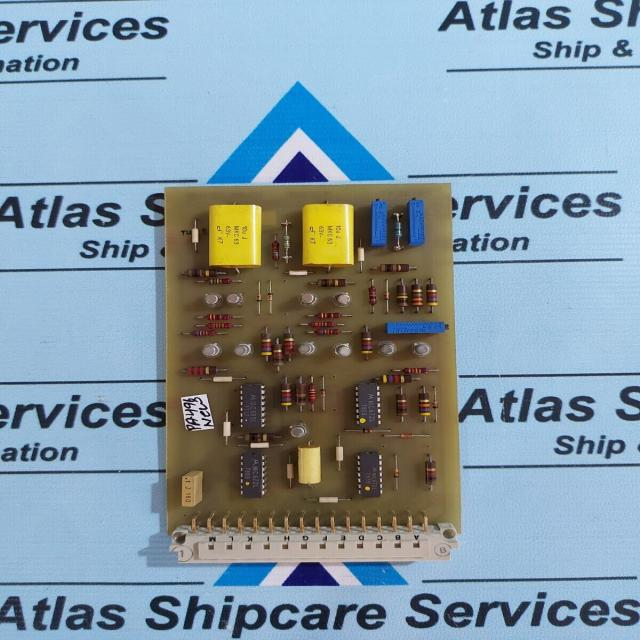pcb: (162, 182, 460, 562), (300, 200, 355, 268), (207, 202, 262, 268), (180, 393, 215, 431), (180, 469, 204, 507), (370, 198, 388, 246)
